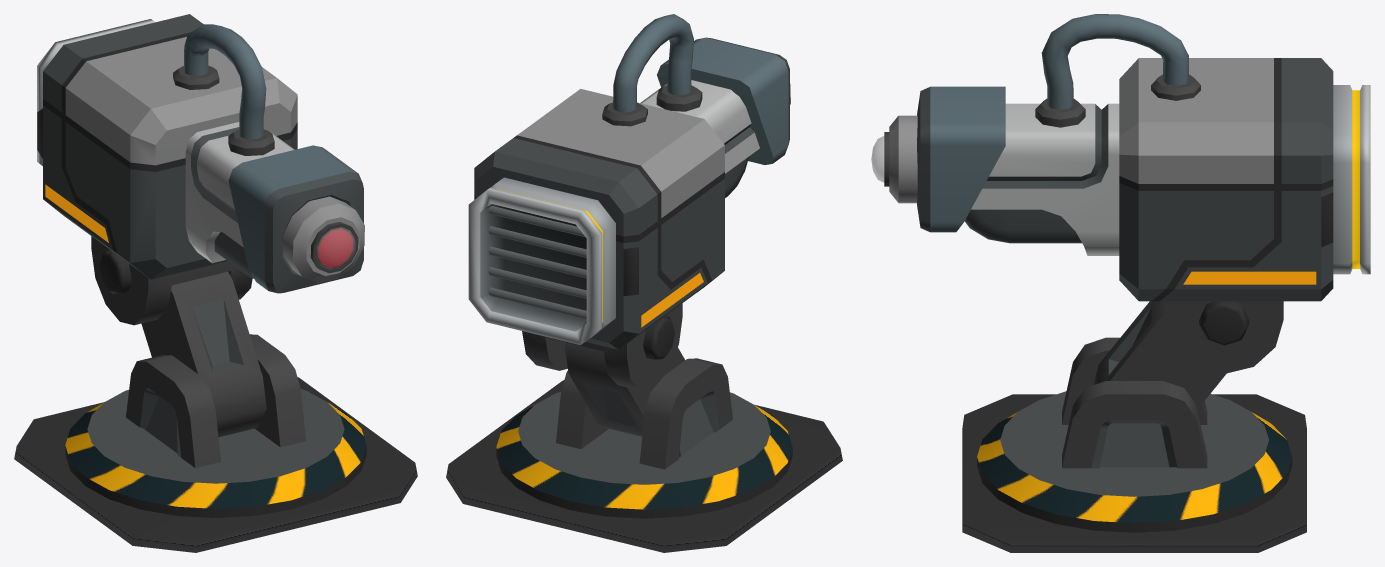
The model's file is Turret_006.glb.
The picture shows the model from 3 angles, left to right: view 1: azimuth 30°, elevation 25°; view 2: azimuth 150°, elevation 25°; view 3: azimuth 270°, elevation 25°; orthographic projection. The views are drawn at different scales.
Parts seen in each view (by area): view 1: Turret_006_body_001, Turret_006, Turret_006_body_002; view 2: Turret_006_body_001, Turret_006, Turret_006_body_002; view 3: Turret_006_body_001, Turret_006, Turret_006_body_002.
Boxes of the visible parts, left/top/right/bottom form: Turret_006_body_001: left=37, top=14, right=364, bottom=325; Turret_006: left=14, top=334, right=417, bottom=552; Turret_006_body_002: left=141, top=272, right=266, bottom=436; Turret_006_body_001: left=468, top=14, right=790, bottom=390; Turret_006: left=446, top=358, right=842, bottom=552; Turret_006_body_002: left=565, top=342, right=684, bottom=436; Turret_006_body_001: left=871, top=14, right=1370, bottom=373; Turret_006: left=962, top=337, right=1306, bottom=552; Turret_006_body_002: left=1093, top=301, right=1226, bottom=409.
Bounding box in the file's own units: 1.34 × 2 × 1.94.
Materials: 3 (3 with a texture image).
